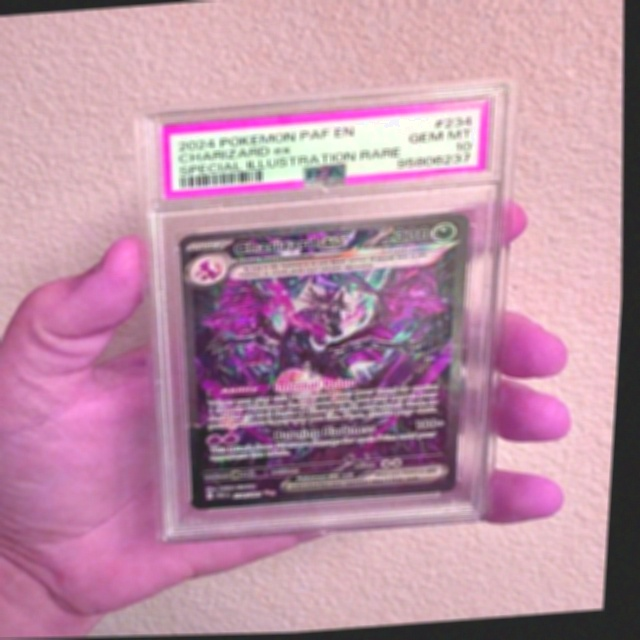card: (181, 213, 474, 511)
